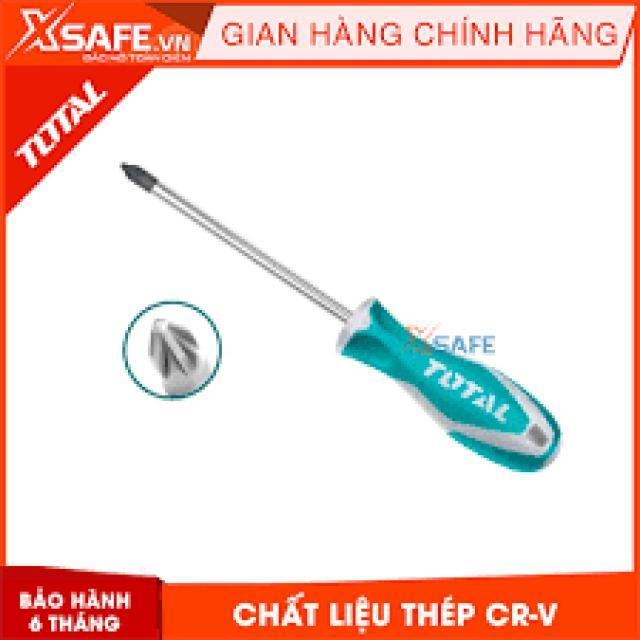screwdriver: (110, 158, 566, 480)
